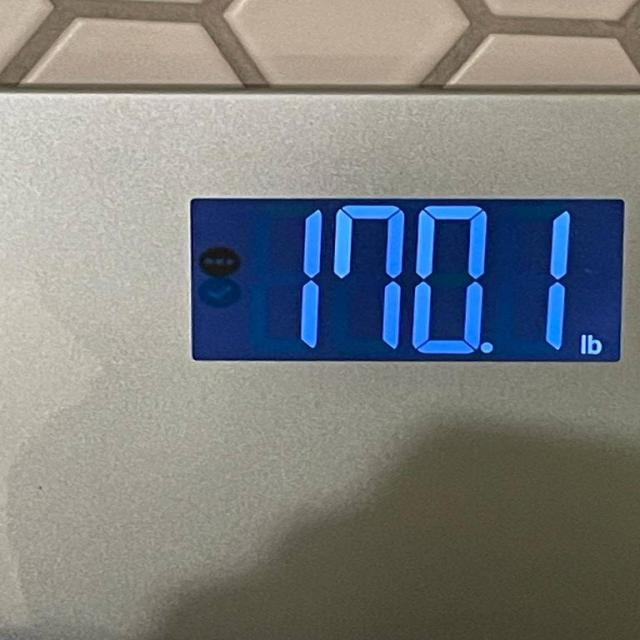ws: (0, 35, 639, 639)
